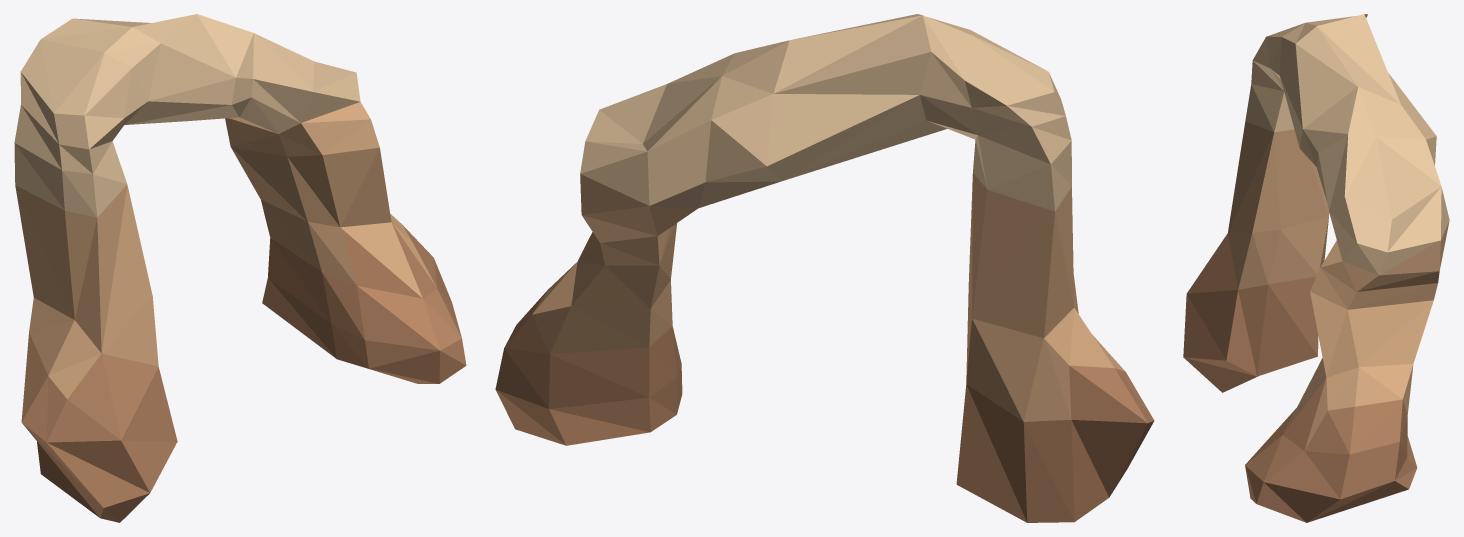
File: canyon-5-1.glb
The picture shows the model from 3 angles, left to right: view 1: azimuth 30°, elevation 25°; view 2: azimuth 150°, elevation 25°; view 3: azimuth 270°, elevation 25°; orthographic projection. The views are drawn at different scales.
Parts seen in each view (by area): view 1: canyon-5-1; view 2: canyon-5-1; view 3: canyon-5-1.
Boxes of the visible parts, x1,y1,x2,y2 form: canyon-5-1: [14, 14, 466, 522]; canyon-5-1: [495, 14, 1154, 522]; canyon-5-1: [1183, 14, 1449, 522].
Bounding box in the file's own units: 29.7 × 26 × 15.88.
